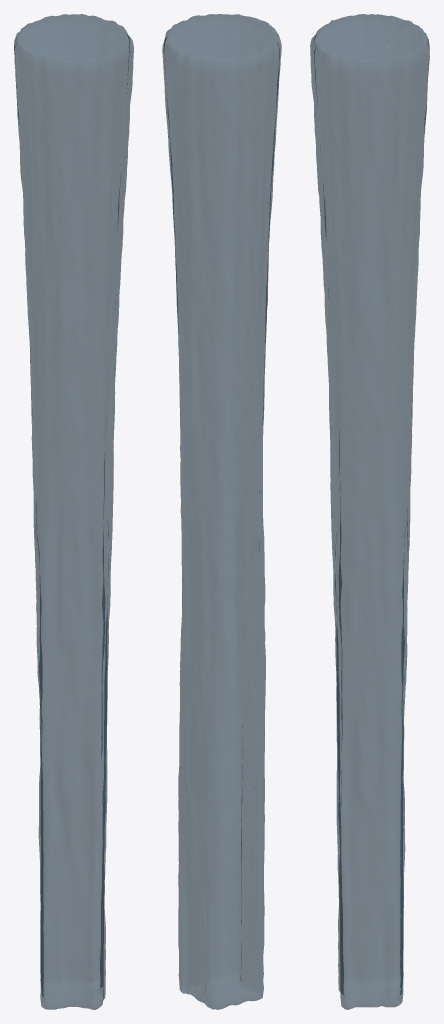
The model's file is water_5.dae.
3 renders of one model, left to right at view 1: azimuth 90°, elevation 25°; view 2: azimuth 210°, elevation 25°; view 3: azimuth 270°, elevation 25°, orthographic.
Parts seen in each view (by area): view 1: Water_stream_001; view 2: Water_stream_001; view 3: Water_stream_001.
Part boxes in pixels (bbox=[...]): Water_stream_001: bbox=[14, 14, 133, 1009]; Water_stream_001: bbox=[162, 14, 281, 1009]; Water_stream_001: bbox=[310, 14, 429, 1009].
Size of the model in its own units: 0.0637 by 0.064 by 0.5662.
